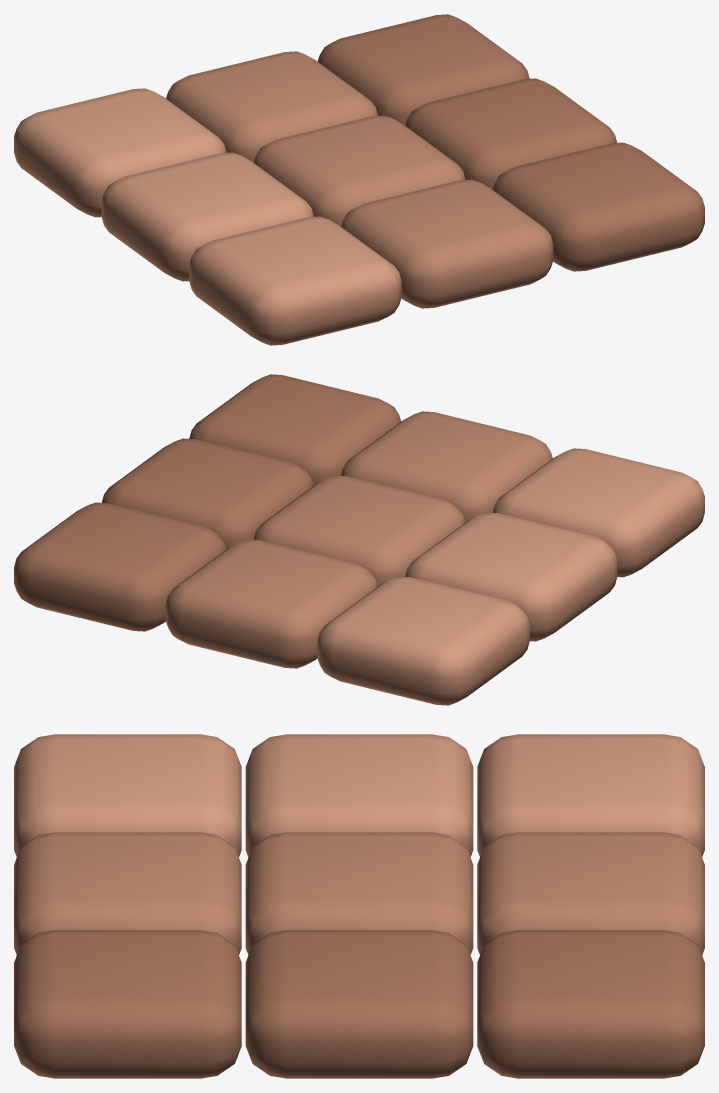
File: garden_ground_3x3.fbx
The picture shows the model from 3 angles, top to bottom: view 1: azimuth 30°, elevation 25°; view 2: azimuth 150°, elevation 25°; view 3: azimuth 270°, elevation 25°; orthographic projection. The views are drawn at different scales.
Visible parts, largest first — view 1: garden_ground_3x3; view 2: garden_ground_3x3; view 3: garden_ground_3x3.
Boxes of the visible parts, x1,y1,x2,y2 form: garden_ground_3x3: (14,14,704,345); garden_ground_3x3: (14,374,704,705); garden_ground_3x3: (14,734,704,1078).
Size of the model in its own units: 209 by 25.66 by 209.
